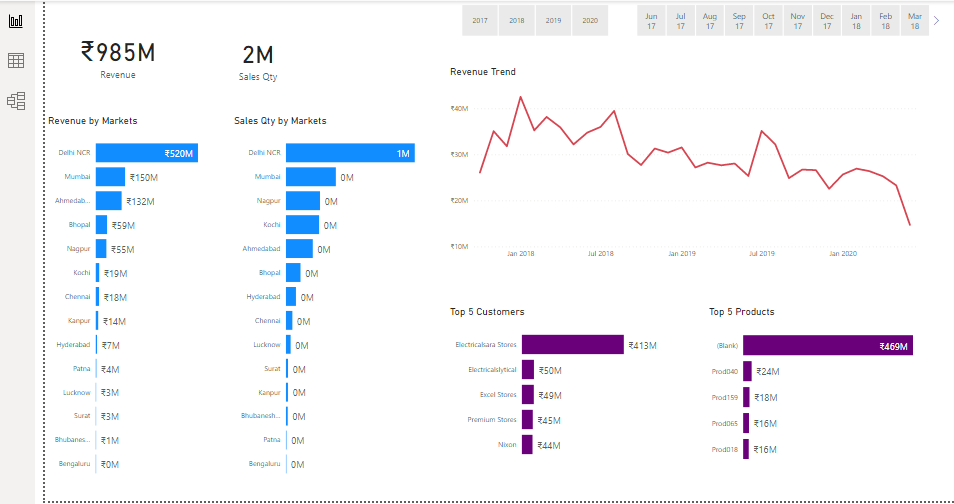

This screenshot's page, from the dashboard's own definition file:
{"tool":"powerbi","page":{"name":"Key Insights","canvas":[1550,850],"ordinal":0},"visuals":[{"type":"card","fields":{"Values":["BaseMeasures (2).Revenue"]},"box":[0,0,247.9,184.6],"z":0},{"type":"card","fields":{"Values":["BaseMeasures (2).Sales Qty"]},"box":[247.9,0,227.9,193.1],"z":1000},{"type":"barChart","title":"Revenue by Markets","fields":{"Y":["BaseMeasures (2).Revenue"],"Category":["sales markets.markets_name"]},"box":[0,193.8,292.4,630.7],"z":2000},{"type":"barChart","title":"Sales Qty by Markets","fields":{"Y":["BaseMeasures (2).Sales Qty"],"Category":["sales markets.markets_name"]},"box":[316.2,193.8,319.6,630.7],"z":3000},{"type":"slicer","fields":{"Values":["sales date.cy_date"]},"box":[980.9,0,545.7,66.3],"z":5000},{"type":"barChart","title":"Top 5 Customers","fields":{"Y":["BaseMeasures (2).Revenue"],"Category":["sales customers.custmer_name"]},"box":[683.4,518.5,384.2,275.4],"z":6000},{"type":"barChart","title":"Top 5 Products","fields":{"Y":["BaseMeasures (2).Revenue"],"Category":["sales products.product_code"]},"box":[1123.7,518.5,375.7,283.9],"z":7000},{"type":"lineChart","title":"Revenue Trend","fields":{"Y":["BaseMeasures (2).Revenue"],"Category":["sales date.cy_date"]},"box":[683.4,110.5,816,336.6],"z":8000},{"type":"slicer","fields":{"Values":["sales date.year"]},"box":[683.4,0,297.5,66.3],"z":8001}]}

Visuals, with their boxes on the page's 1550x850 design canvas (x1, y1, x2, y2). These are canvas units, not pixel positions in the 954x504 screenshot, which may show the page scaled, cropped or inside an application window:
card - BaseMeasures (2).Revenue: l=0, t=0, r=248, b=185
card - BaseMeasures (2).Sales Qty: l=248, t=0, r=476, b=193
"Revenue by Markets" barChart: l=0, t=194, r=292, b=824
"Sales Qty by Markets" barChart: l=316, t=194, r=636, b=824
slicer - sales date.cy_date: l=981, t=0, r=1527, b=66
"Top 5 Customers" barChart: l=683, t=518, r=1068, b=794
"Top 5 Products" barChart: l=1124, t=518, r=1499, b=802
"Revenue Trend" lineChart: l=683, t=110, r=1499, b=447
slicer - sales date.year: l=683, t=0, r=981, b=66
